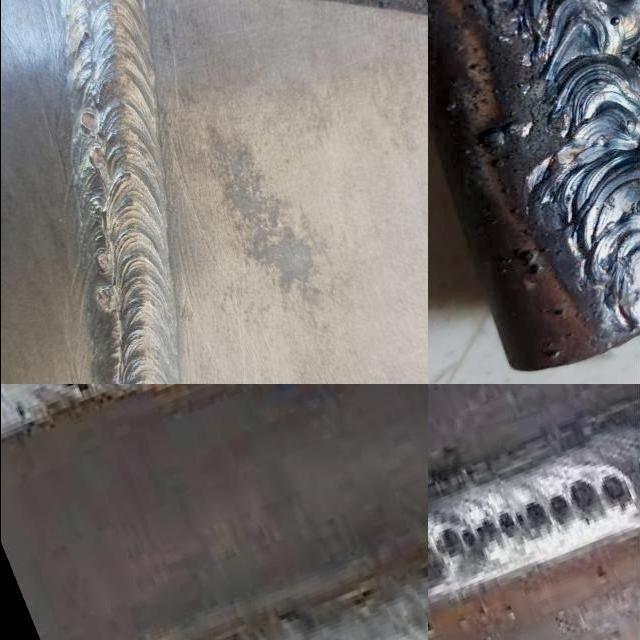defect: (428, 468, 640, 565), (93, 285, 114, 313), (77, 110, 98, 133), (13, 402, 30, 430), (94, 250, 111, 278), (62, 384, 91, 400), (89, 198, 104, 221), (87, 145, 103, 165), (630, 200, 640, 218), (109, 342, 116, 351)
